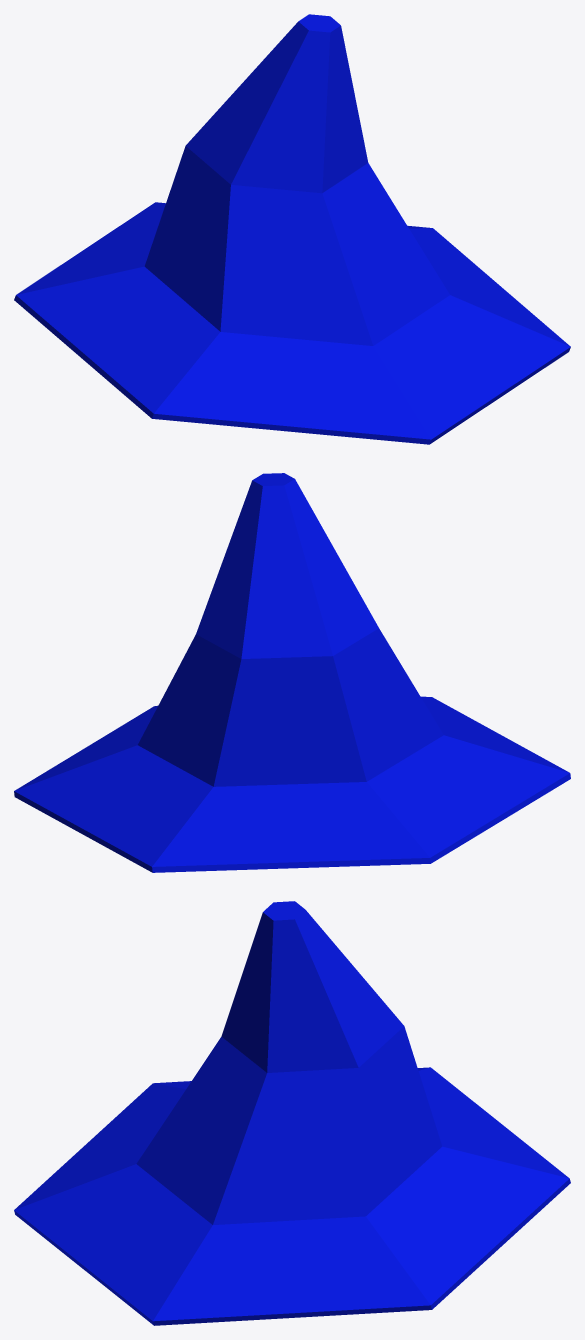
Rendered from Hat_Wizard-Blue.glb.
3 renders of one model, top to bottom at view 1: azimuth 30°, elevation 25°; view 2: azimuth 150°, elevation 25°; view 3: azimuth 270°, elevation 25°, orthographic.
Parts seen in each view (by area): view 1: Hat_Wizard-Blue; view 2: Hat_Wizard-Blue; view 3: Hat_Wizard-Blue.
Part boxes in pixels (<box>): Hat_Wizard-Blue: <box>14,14,570,444</box>; Hat_Wizard-Blue: <box>14,473,570,872</box>; Hat_Wizard-Blue: <box>14,901,570,1325</box>.
Bounding box in the file's own units: 1.17 × 0.8749 × 1.35.
